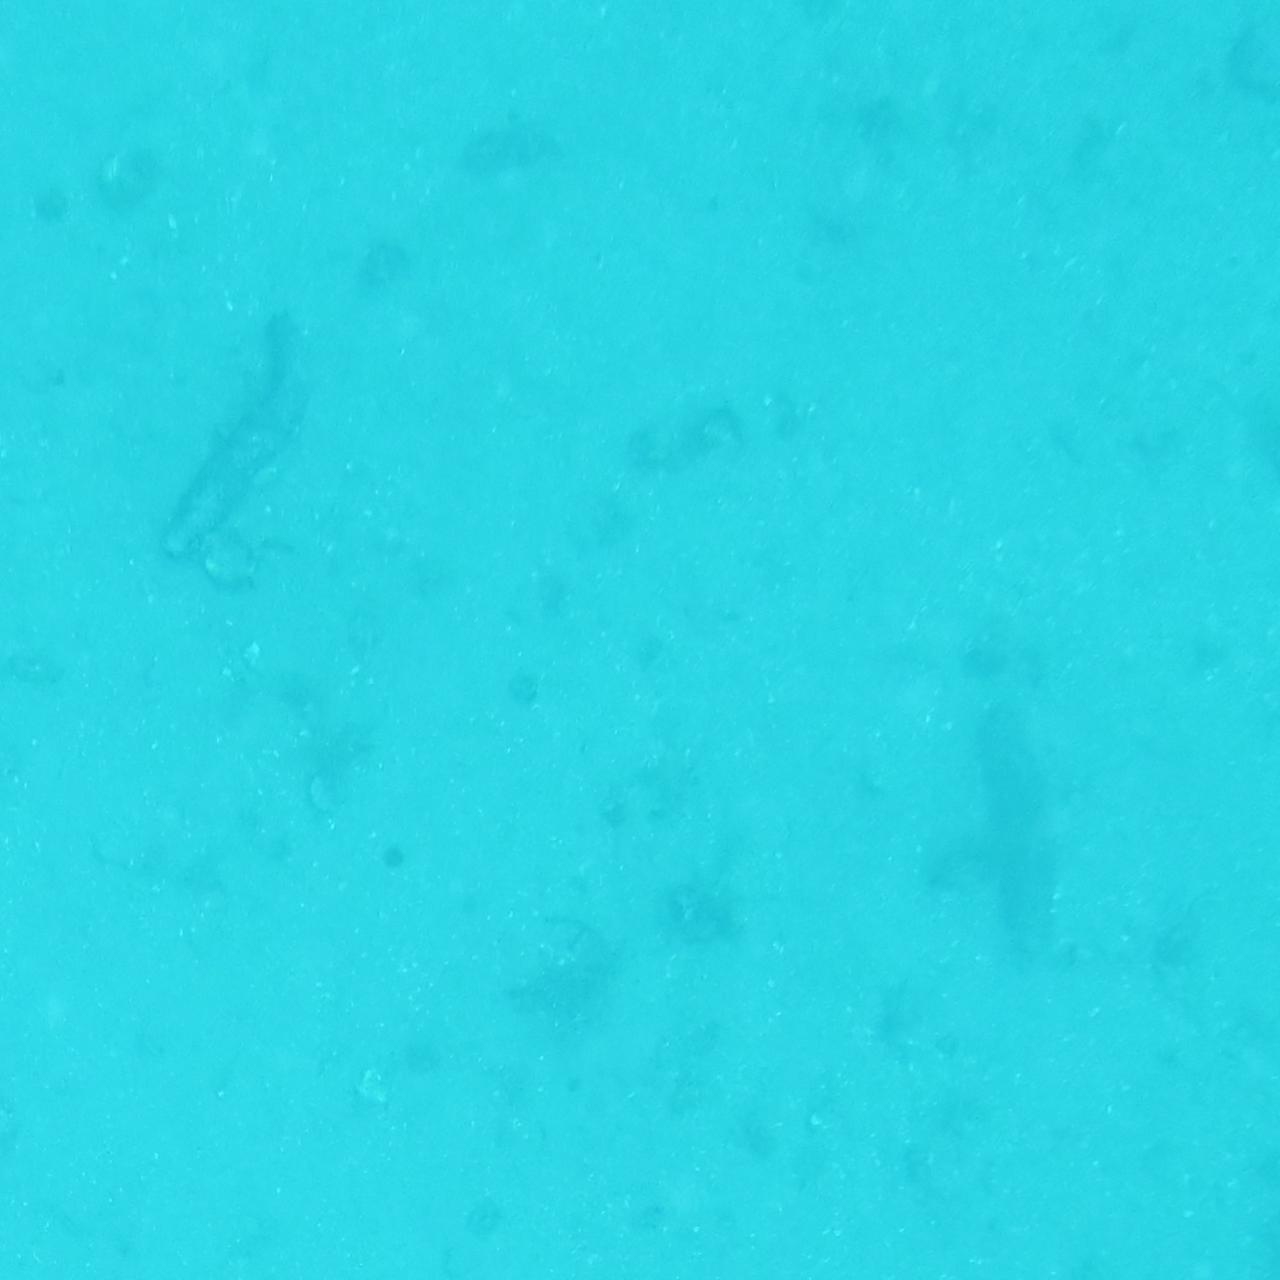Holothuria tubulosa: (184, 298, 340, 590), (967, 687, 1069, 987)
